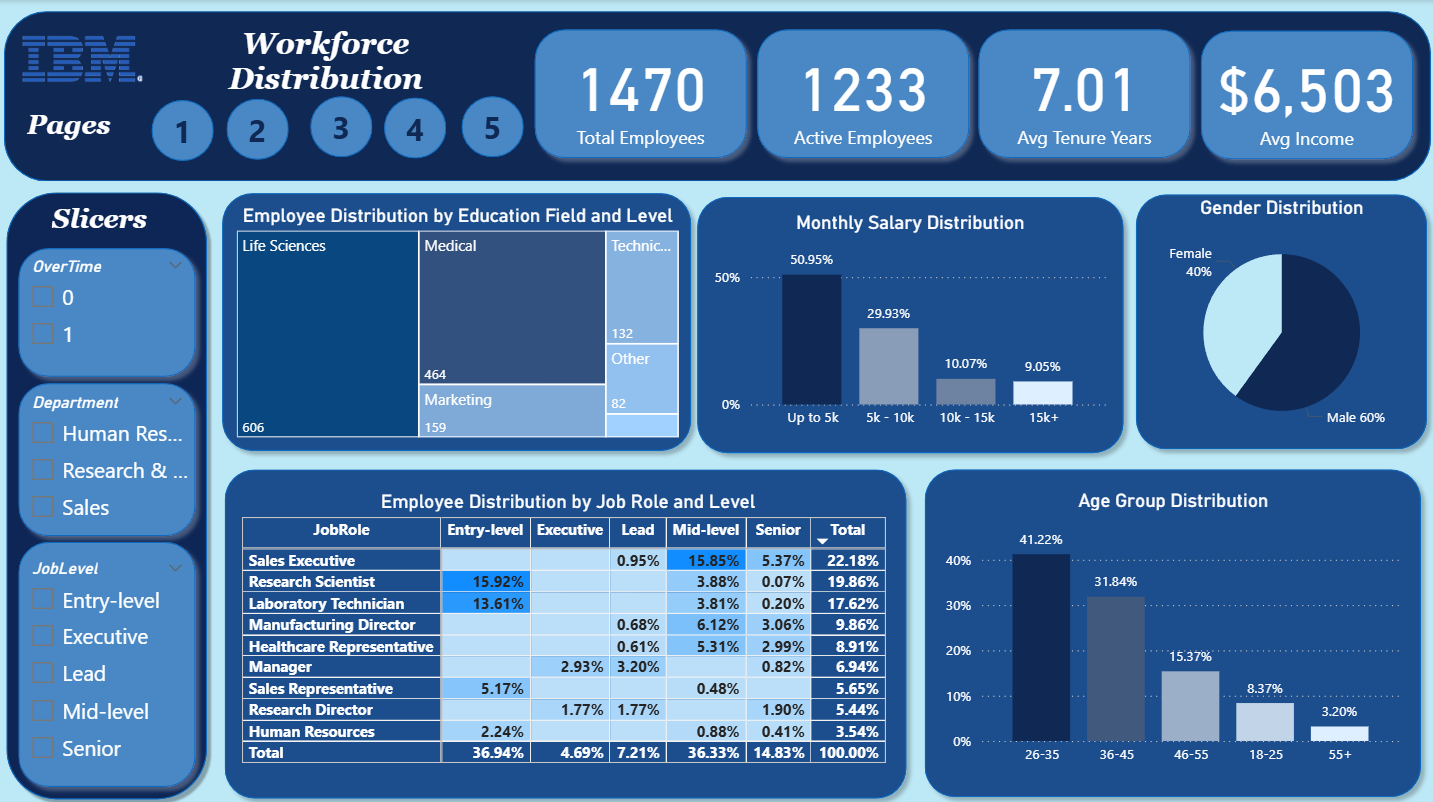

Layout of this report page (visuals, bound fields, positions):
{"tool":"powerbi","page":{"name":"Workforce Distribution","canvas":[1280,720],"ordinal":4},"visuals":[{"type":"shape","box":[4.1,9.5,1270.8,151.6],"z":0},{"type":"shape","box":[136.3,89.3,55.5,54.3],"z":0,"group":"g14"},{"type":"image","box":[15.7,9.7,117,83.2],"z":1000},{"type":"shape","box":[202.7,88.1,55.5,54.3],"z":1000,"group":"g14"},{"type":"shape","box":[468.1,18.1,205.8,131.4],"z":1500,"group":"g2"},{"type":"shape","box":[665.7,18.1,205.8,131.4],"z":1500,"group":"g4"},{"type":"shape","box":[863.4,18.1,205.8,131.4],"z":1500,"group":"g6"},{"type":"shape","box":[1061,19.5,205.8,131.4],"z":1500,"group":"g8"},{"type":"shape","box":[190.8,163.8,434.4,246.3],"z":1500,"group":"g9"},{"type":"shape","box":[1004.2,165.1,276,243.8],"z":1500,"group":"g12"},{"type":"shape","box":[613.1,166.5,396.5,245],"z":1500,"group":"g10"},{"type":"shape","box":[8.4,212.3,174.5,131.4],"z":1500,"group":"g3"},{"type":"shape","box":[8.4,333,174.5,153],"z":1500,"group":"g5"},{"type":"shape","box":[192.2,410.1,623.9,309.9],"z":1500,"group":"g11"},{"type":"shape","box":[816.1,410.1,458.8,308.6],"z":1500,"group":"g13"},{"type":"shape","box":[8.4,474.1,174.5,235],"z":1500,"group":"g7"},{"type":"textbox","box":[125.9,18.9,330.2,74.4],"z":2000},{"type":"shape","box":[277.5,85.7,55.5,54.3],"z":2000,"group":"g14"},{"type":"shape","box":[343.8,86.9,55.5,54.3],"z":3000,"group":"g14"},{"type":"textbox","box":[20.5,92.9,105,43.4],"z":3000},{"type":"shape","box":[412.6,85.7,55.5,54.3],"z":4000,"group":"g14"},{"type":"shape","box":[0,165.3,191.8,553.8],"z":4000},{"type":"pieChart","title":"Gender Distribution","fields":{"Category":["Dim_Employee.Gender"],"Y":["CountNonNull(Dim_Employee.EmployeeNumber)"]},"box":[1009.7,175.6,265.7,224],"z":4000,"group":"g12"},{"type":"treemap","title":"Employee Distribution by Education Field and Level","fields":{"Group":["Dim_EducationField.EducationField","Dim_Education.Education"],"Values":["CountNonNull(Dim_Employee.EmployeeNumber)"]},"box":[207.4,181.3,403,213.1],"z":4000,"group":"g9"},{"type":"pivotTable","title":"Employee Distribution by Job Role and Level","fields":{"Values":["CountNonNull(Dim_Employee.EmployeeNumber)"],"Rows":["Dim_JobRole.JobRole"],"Columns":["Dim_JobLevel.JobLevel"]},"box":[210.7,437.1,590.8,254.4],"z":4000,"group":"g11"},{"type":"group","id":"g1","title":"Group 3","box":[468.1,18.1,798.7,132.7],"z":5000},{"type":"card","fields":{"Values":["_measures.Total Employees"]},"box":[476.8,28.9,188.3,109.7],"z":5001,"group":"g2"},{"type":"card","fields":{"Values":["_measures.Active Employees"]},"box":[674.4,28.9,188.3,109.7],"z":5001,"group":"g4"},{"type":"card","fields":{"Values":["_measures.Avg Tenure Years"]},"box":[872.1,28.9,188.3,109.7],"z":5001,"group":"g6"},{"type":"card","fields":{"Values":["_measures.Avg Income"]},"box":[1069.7,30.3,188.3,109.7],"z":5001,"group":"g8"},{"type":"slicer","fields":{"Values":["Fact_Emp_Metrics.OverTime"]},"box":[15.8,223.1,159.7,109.7],"z":5001,"group":"g3"},{"type":"slicer","fields":{"Values":["Dim_Department.Department"]},"box":[15.8,345.6,159.7,127.8],"z":5001,"group":"g5"},{"type":"slicer","fields":{"Values":["Dim_JobLevel.JobLevel"]},"box":[15.8,493.5,159.7,196.2],"z":5001,"group":"g7"},{"type":"group","id":"g2","title":"Group 2","box":[468.1,18.1,205.8,131.4],"z":6000,"group":"g1"},{"type":"group","id":"g3","title":"Group 2","box":[8.4,212.3,174.9,131.5],"z":6000},{"type":"group","id":"g4","title":"Group 2","box":[665.7,18.1,205.8,131.4],"z":7000,"group":"g1"},{"type":"group","id":"g5","title":"Group 2","box":[8.4,333,174.9,153.2],"z":7000},{"type":"group","id":"g6","title":"Group 2","box":[863.4,18.1,205.8,131.4],"z":8000,"group":"g1"},{"type":"group","id":"g7","title":"Group 2","box":[8.4,474.1,174.9,235.3],"z":8000},{"type":"group","id":"g8","title":"Group 2","box":[1061,19.5,205.8,131.4],"z":9000,"group":"g1"},{"type":"textbox","box":[42.2,176.1,105,43.4],"z":9000},{"type":"group","id":"g9","title":"Group 1","box":[190.8,163.8,434.4,246.3],"z":11000},{"type":"group","id":"g10","title":"Group 4","box":[613.1,166.5,396.5,245],"z":12000},{"type":"group","id":"g11","title":"Group 1","box":[192.2,410.1,623.9,309.9],"z":13000},{"type":"clusteredColumnChart","title":"Monthly Salary Distribution","fields":{"Y":["CountNonNull(Dim_Employee.EmployeeNumber)"],"Category":["Fact_Emp_Metrics.SalarySlab"]},"box":[632.1,187.2,358.7,202.3],"z":13001,"group":"g10"},{"type":"clusteredColumnChart","title":"Age Group Distribution","fields":{"Category":["Dim_Employee.AgeGroup"],"Y":["CountNonNull(Dim_Employee.EmployeeNumber)"]},"box":[838.1,436.2,415,254.8],"z":13001,"group":"g13"},{"type":"group","id":"g12","title":"Group 1","box":[1004.2,165.1,276.1,245],"z":14000},{"type":"group","id":"g13","title":"Group 4","box":[816.1,410.1,458.8,308.6],"z":15000},{"type":"group","id":"g14","title":"Group 5","box":[136.3,85.7,331.8,57.9],"z":15001}]}

Visuals, with their boxes in screenshot pixels (x1, y1, x2, y2), scaled from the page's 1280x720 canvas onto the 1433x802 screenshot:
shape: (left=5, top=11, right=1427, bottom=179)
shape: (left=153, top=99, right=215, bottom=160)
image: (left=18, top=11, right=149, bottom=103)
shape: (left=227, top=98, right=289, bottom=159)
shape: (left=524, top=20, right=754, bottom=167)
shape: (left=745, top=20, right=976, bottom=167)
shape: (left=967, top=20, right=1197, bottom=167)
shape: (left=1188, top=22, right=1418, bottom=168)
shape: (left=214, top=182, right=700, bottom=457)
shape: (left=1124, top=184, right=1432, bottom=455)
shape: (left=686, top=185, right=1130, bottom=458)
shape: (left=9, top=236, right=205, bottom=383)
shape: (left=9, top=371, right=205, bottom=541)
shape: (left=215, top=457, right=914, bottom=801)
shape: (left=914, top=457, right=1427, bottom=801)
shape: (left=9, top=528, right=205, bottom=790)
textbox: (left=141, top=21, right=511, bottom=104)
shape: (left=311, top=95, right=373, bottom=156)
shape: (left=385, top=97, right=447, bottom=157)
textbox: (left=23, top=103, right=141, bottom=152)
shape: (left=462, top=95, right=524, bottom=156)
shape: (left=0, top=184, right=215, bottom=801)
"Gender Distribution" pieChart: (left=1130, top=196, right=1428, bottom=445)
"Employee Distribution by Education Field and Level" treemap: (left=232, top=202, right=683, bottom=439)
"Employee Distribution by Job Role and Level" pivotTable: (left=236, top=487, right=897, bottom=770)
"Group 3" group: (left=524, top=20, right=1418, bottom=168)
card - _measures.Total Employees: (left=534, top=32, right=745, bottom=154)
card - _measures.Active Employees: (left=755, top=32, right=966, bottom=154)
card - _measures.Avg Tenure Years: (left=976, top=32, right=1187, bottom=154)
card - _measures.Avg Income: (left=1198, top=34, right=1408, bottom=156)
slicer - Fact_Emp_Metrics.OverTime: (left=18, top=249, right=196, bottom=371)
slicer - Dim_Department.Department: (left=18, top=385, right=196, bottom=527)
slicer - Dim_JobLevel.JobLevel: (left=18, top=550, right=196, bottom=768)
"Group 2" group: (left=524, top=20, right=754, bottom=167)
"Group 2" group: (left=9, top=236, right=205, bottom=383)
"Group 2" group: (left=745, top=20, right=976, bottom=167)
"Group 2" group: (left=9, top=371, right=205, bottom=542)
"Group 2" group: (left=967, top=20, right=1197, bottom=167)
"Group 2" group: (left=9, top=528, right=205, bottom=790)
"Group 2" group: (left=1188, top=22, right=1418, bottom=168)
textbox: (left=47, top=196, right=165, bottom=244)
"Group 1" group: (left=214, top=182, right=700, bottom=457)
"Group 4" group: (left=686, top=185, right=1130, bottom=458)
"Group 1" group: (left=215, top=457, right=914, bottom=801)
"Monthly Salary Distribution" clusteredColumnChart: (left=708, top=209, right=1109, bottom=434)
"Age Group Distribution" clusteredColumnChart: (left=938, top=486, right=1403, bottom=770)
"Group 1" group: (left=1124, top=184, right=1432, bottom=457)
"Group 4" group: (left=914, top=457, right=1427, bottom=801)
"Group 5" group: (left=153, top=95, right=524, bottom=160)
